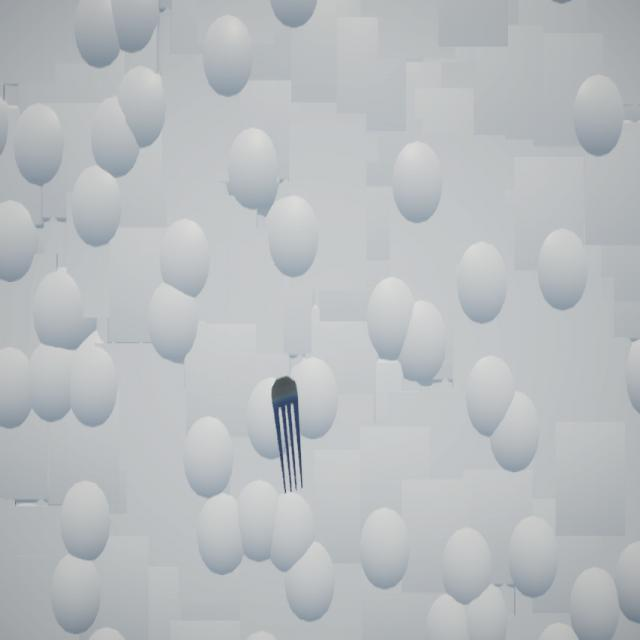top_folk: (272, 376, 303, 495)
